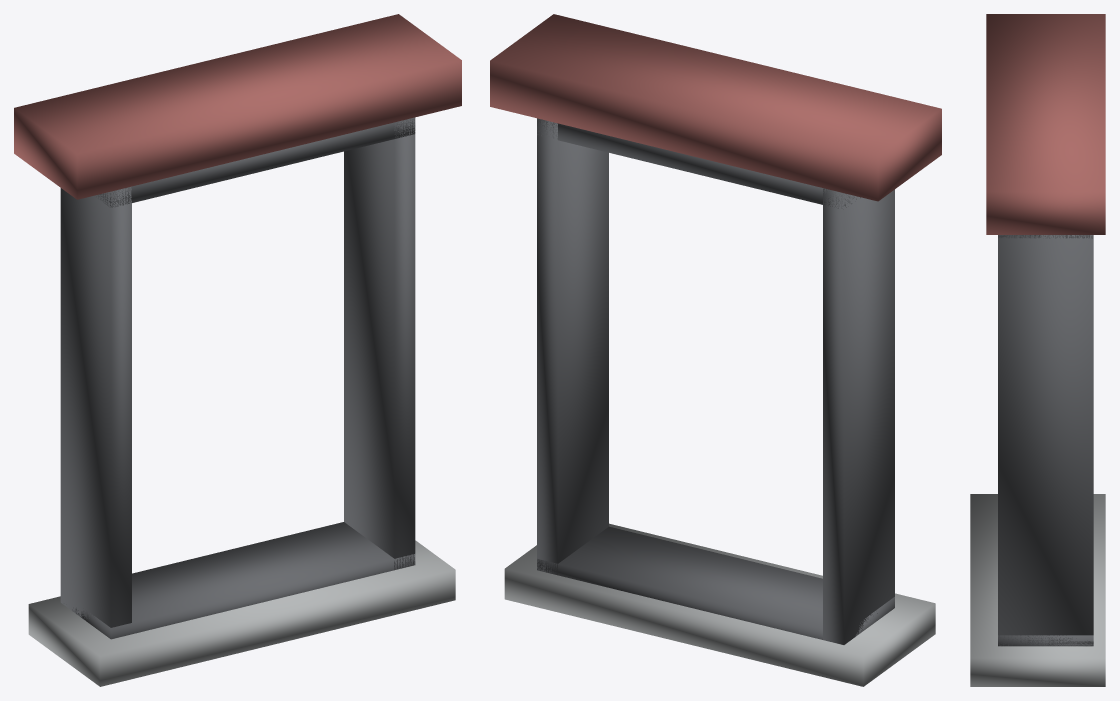
The model's file is egress_window_brick_w72_h110_s72_d24.glb.
The picture shows the model from 3 angles, left to right: view 1: azimuth 30°, elevation 25°; view 2: azimuth 150°, elevation 25°; view 3: azimuth 270°, elevation 25°; orthographic projection. The views are drawn at different scales.
Visible parts, largest first — view 1: world; view 2: world; view 3: world.
Boxes of the visible parts, box(x1,y1,x2,y2) form: world: box(14, 14, 461, 686); world: box(490, 14, 941, 686); world: box(970, 14, 1105, 686).
Bounding box in the file's own units: 1.06 × 1.39 × 0.34.
